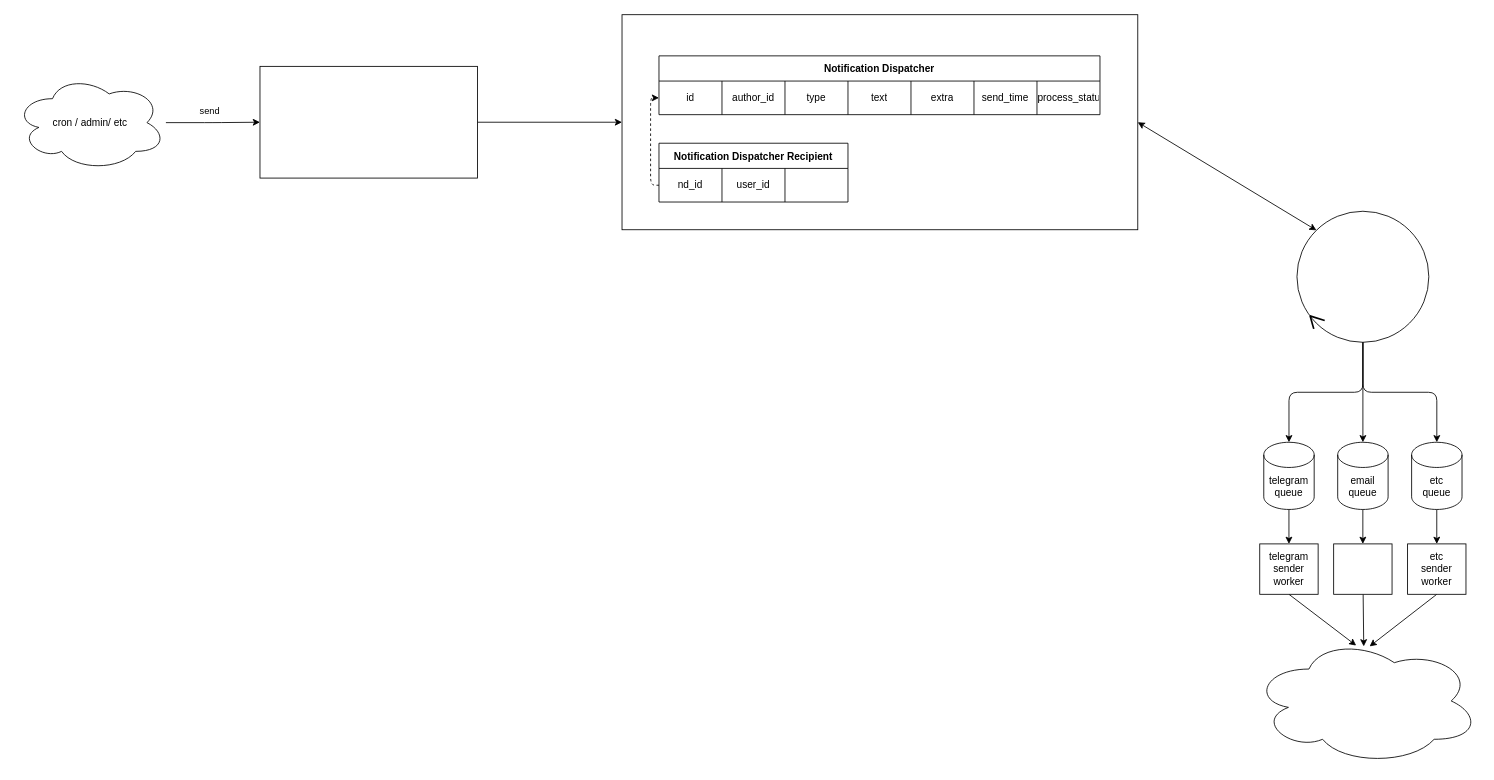
Some shapes in this 1494 by 780 pixel diagram are drawn without their labels. Here are the shapes that lost their labels. From the top down, the centre of each, then its label:
At (368,122): "generate text, extra, etc data, inserting to DB".
At (1362,276): "cron (1 min)".
At (1362,568): "email sender worker".
At (1365,700): "users".
